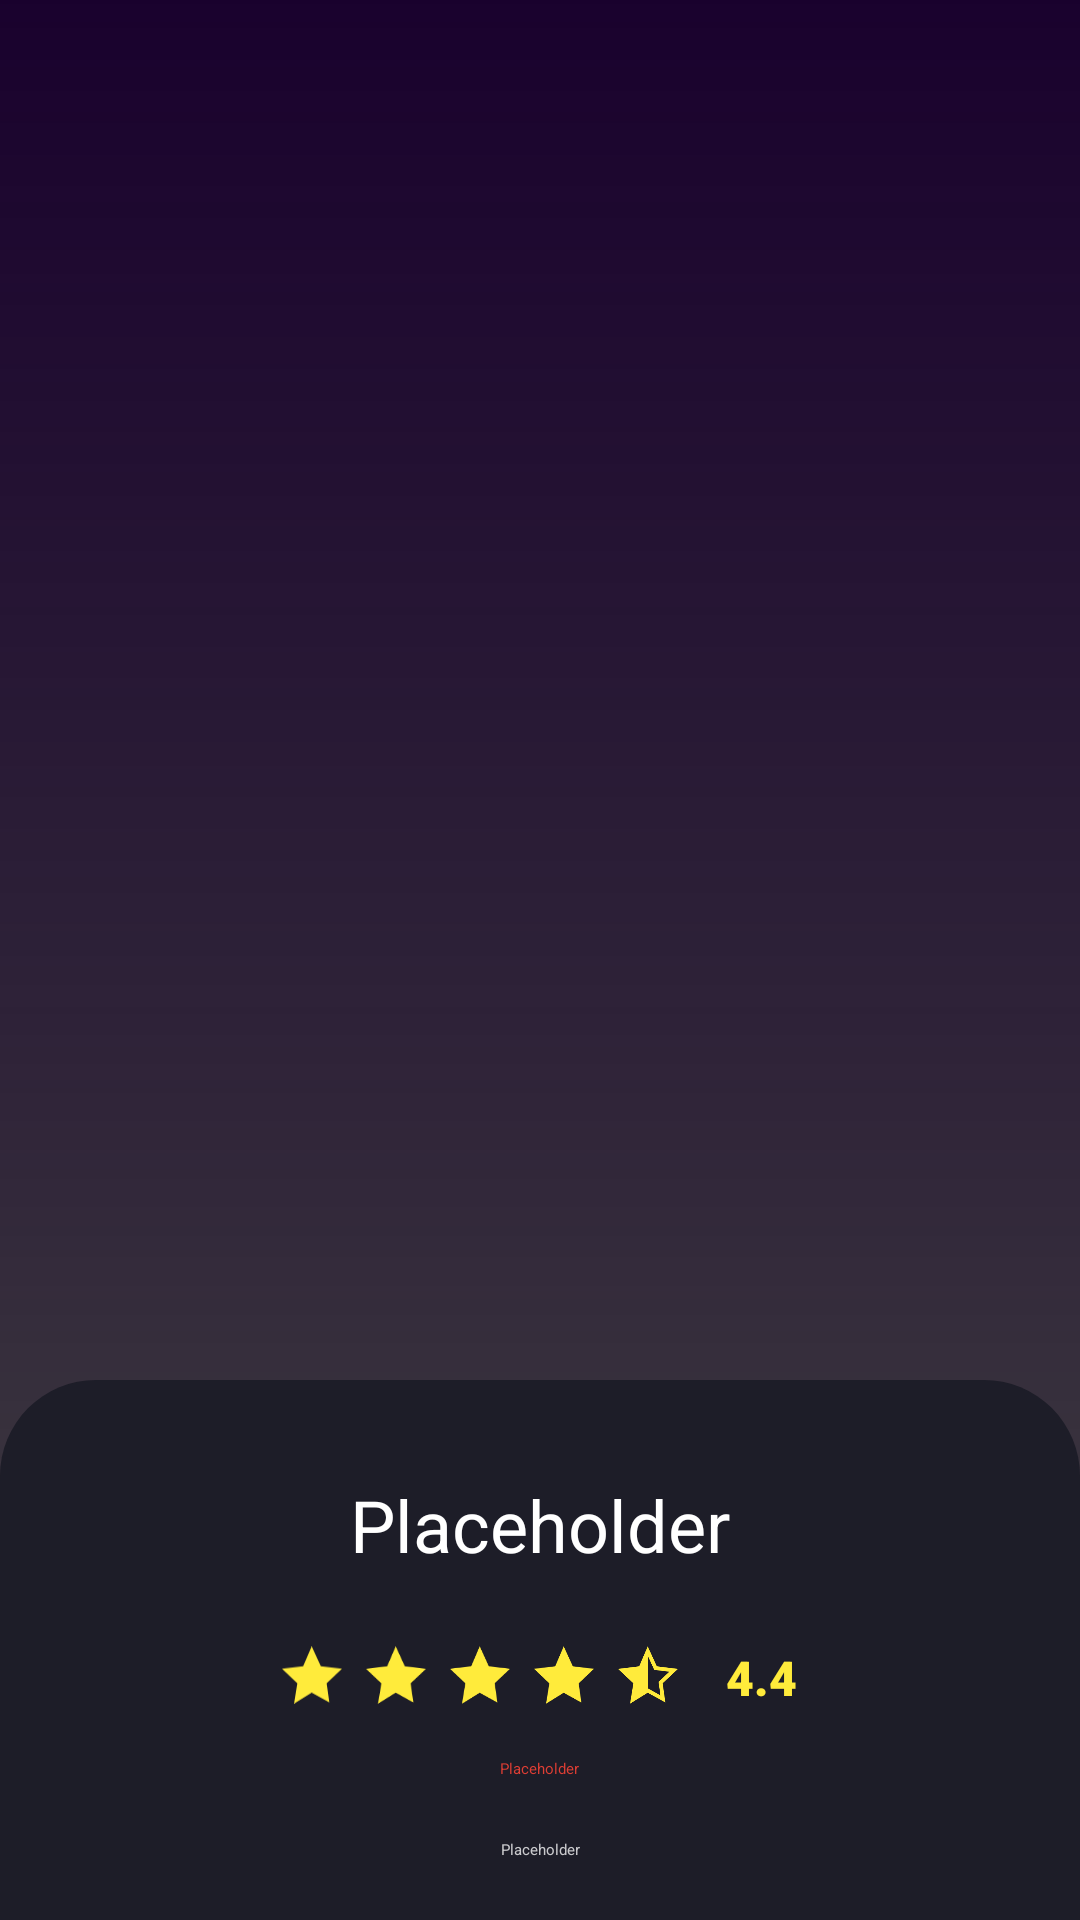

Point at icon controls on the screen. Image size 1080px×1920px, points as (x,y).
star: (312,1675), (396,1675), (480,1675), (564,1675)
